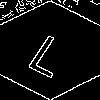L: (25, 25, 79, 79)
